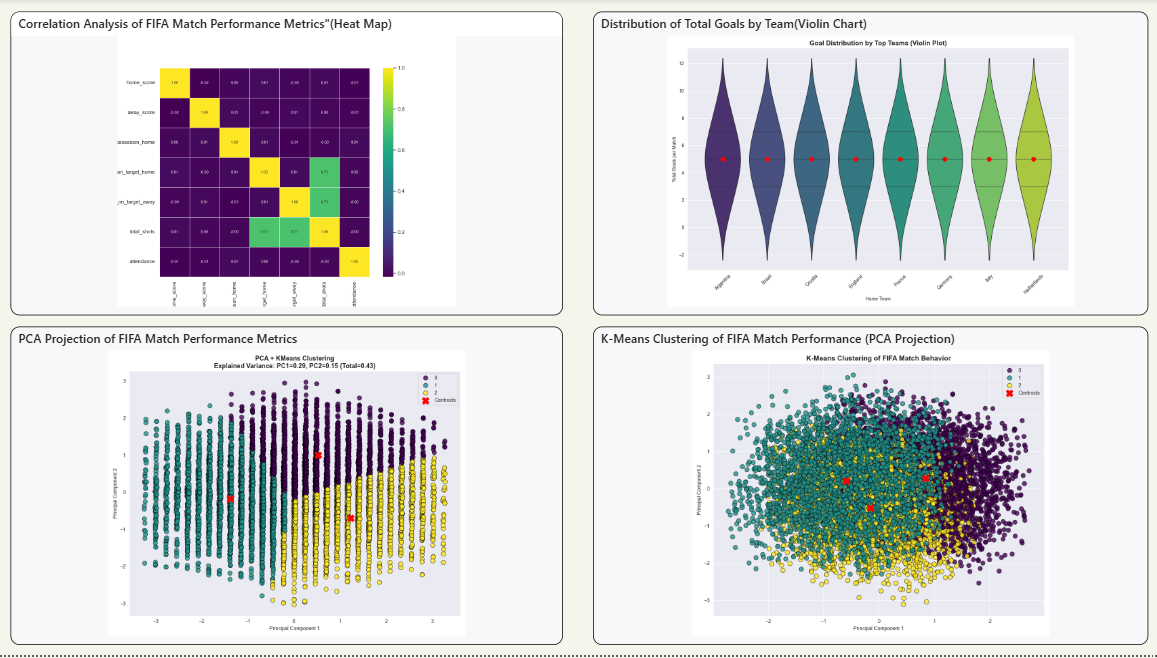

What the dashboard file says about the page in this screenshot:
{"tool":"powerbi","page":{"name":"Page 4","canvas":[1280,720],"ordinal":3},"visuals":[{"type":"pythonVisual","title":"Correlation Analysis of FIFA Match Performance Metrics\"(Heat Map)","fields":{"Values":["fifa_worldcup clean_fifa_data.home_score","fifa_worldcup clean_fifa_data.away_score","fifa_worldcup clean_fifa_data.possession_home","fifa_worldcup clean_fifa_data.shots_on_target_home","fifa_worldcup clean_fifa_data.shots_on_target_away","fifa_worldcup clean_fifa_data.total_shots","fifa_worldcup clean_fifa_data.attendance"]},"box":[13.7,13.7,606.5,333.4],"z":0},{"type":"pythonVisual","title":"PCA Projection of FIFA Match Performance Metrics","fields":{"Values":["fifa_worldcup clean_fifa_data.home_score","fifa_worldcup clean_fifa_data.away_score","fifa_worldcup clean_fifa_data.possession_home","fifa_worldcup clean_fifa_data.attendance","fifa_worldcup clean_fifa_data.shots_on_target_home","fifa_worldcup clean_fifa_data.shots_on_target_away","fifa_worldcup clean_fifa_data.total_shots"]},"box":[13.7,359.5,606.5,349.9],"z":1000},{"type":"pythonVisual","title":"Distribution of Total Goals by Team(Violin Chart)","fields":{"Values":["fifa_worldcup clean_fifa_data.home_team","fifa_worldcup clean_fifa_data.home_score","fifa_worldcup clean_fifa_data.away_score"]},"box":[653.2,13.7,609.3,333.4],"z":2000},{"type":"pythonVisual","title":"K-Means Clustering of FIFA Match Performance (PCA Projection)","fields":{"Values":["fifa_worldcup clean_fifa_data.home_score","fifa_worldcup clean_fifa_data.away_score","fifa_worldcup clean_fifa_data.possession_home","fifa_worldcup clean_fifa_data.shots_on_target_home","fifa_worldcup clean_fifa_data.attendance","fifa_worldcup clean_fifa_data.home_team"]},"box":[653.2,359.5,609.3,349.9],"z":3000}]}

Visuals, with their boxes in screenshot pixels (x1, y1, x2, y2), scaled from the page's 1280x720 canvas onto the 1157x658 screenshot:
"Correlation Analysis of FIFA Match Performance Metrics"(Heat Map)" pythonVisual: <bbox>12, 13, 561, 317</bbox>
"PCA Projection of FIFA Match Performance Metrics" pythonVisual: <bbox>12, 329, 561, 648</bbox>
"Distribution of Total Goals by Team(Violin Chart)" pythonVisual: <bbox>590, 13, 1141, 317</bbox>
"K-Means Clustering of FIFA Match Performance (PCA Projection)" pythonVisual: <bbox>590, 329, 1141, 648</bbox>
